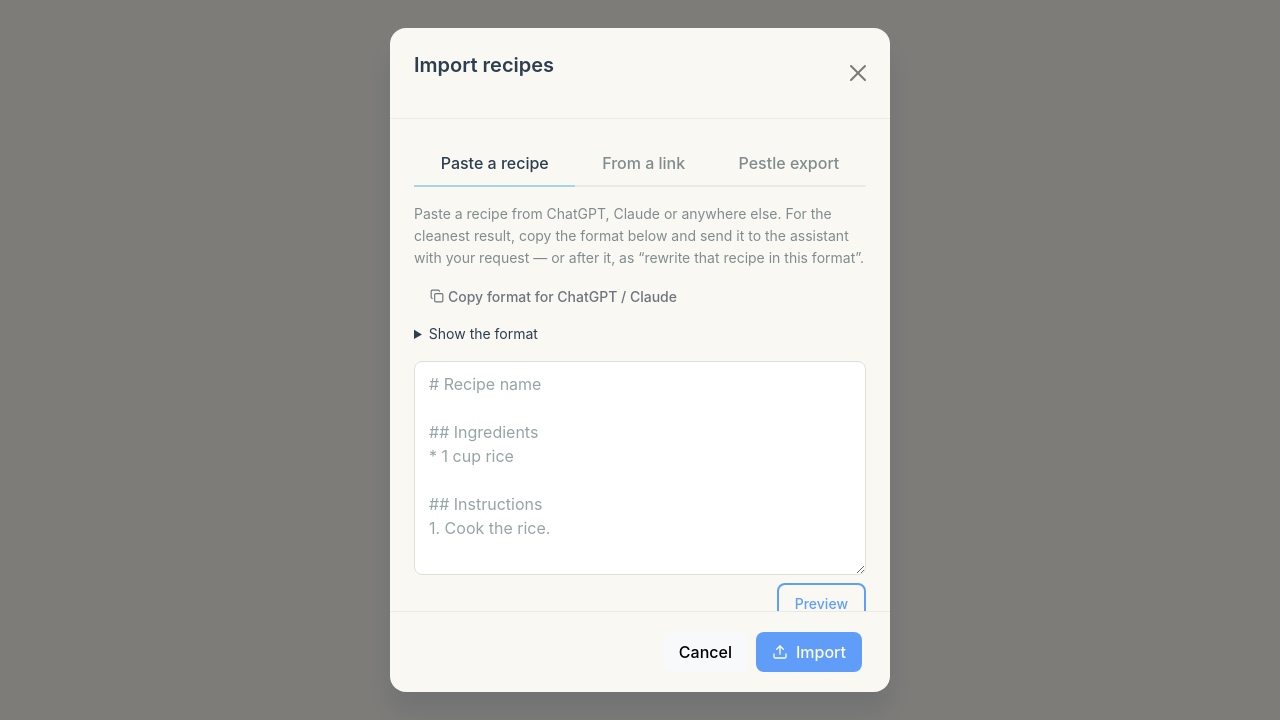
Test: from a link › says so when a page has no recipe
Click the tab "From a link" at (644, 165), box [575,143,712,187]
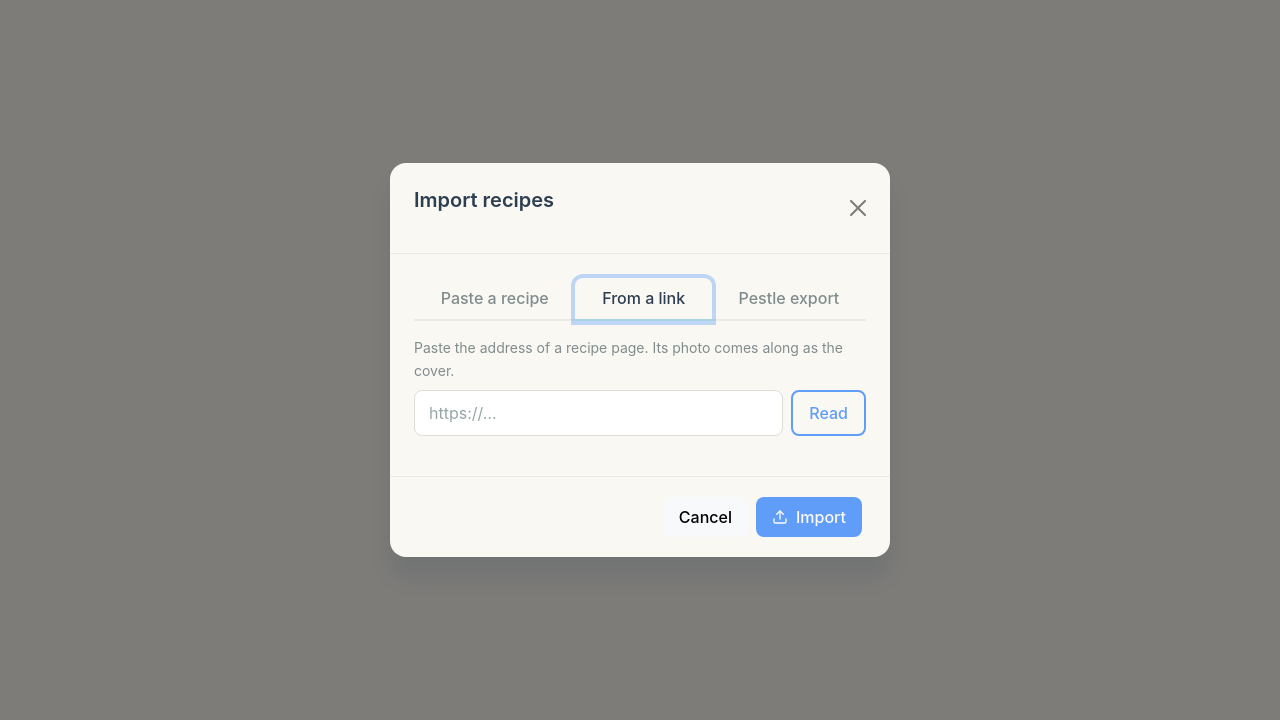
Type "https://x.test" into the field named "Recipe page address" at (599, 413), box [414,390,783,436]
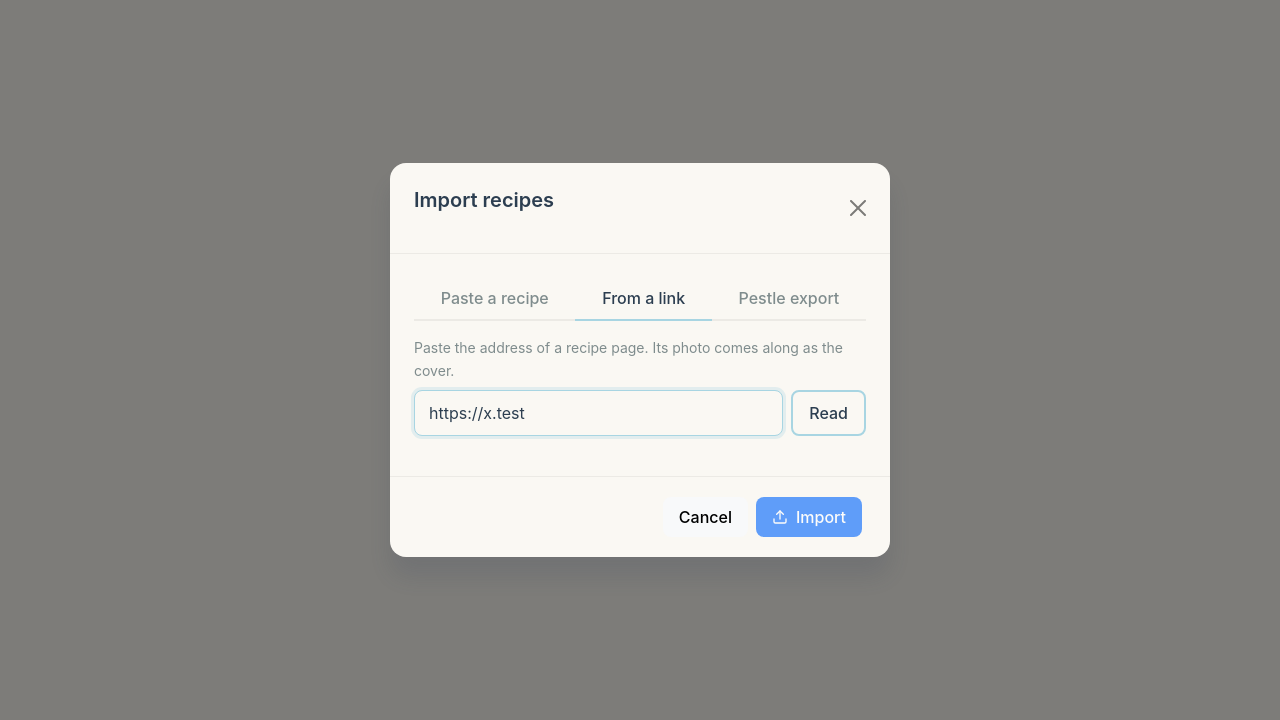
Click the button "Read" at (829, 413), box [791,390,866,436]
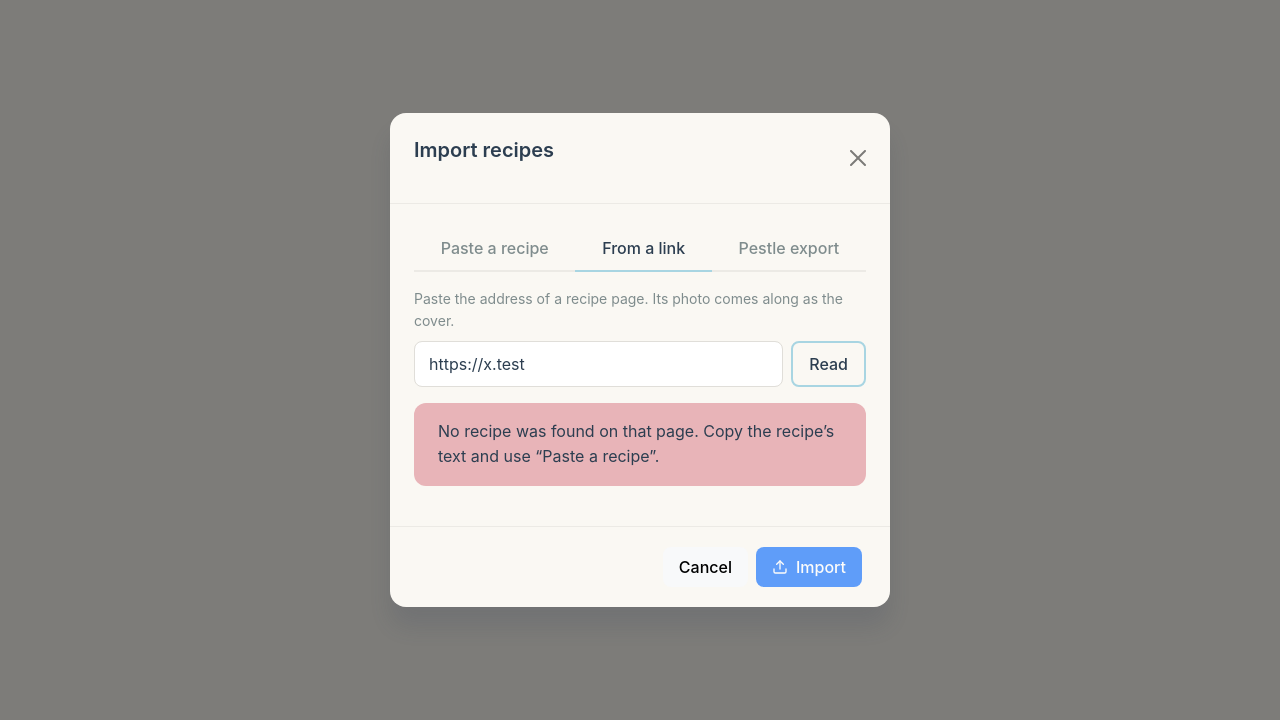
Expected: the text "No recipe was found on that page" is shown, [438,421,834,466]
